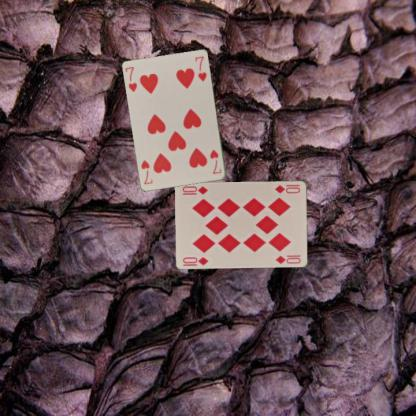10d: (272, 182, 301, 194), (180, 255, 210, 266)
7h: (123, 64, 138, 93), (208, 147, 223, 175)
